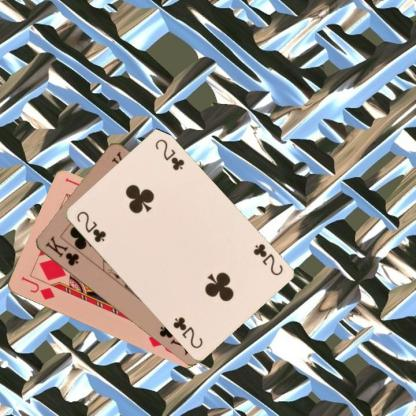2c: (250, 240, 284, 278), (73, 208, 107, 244)
Jd: (18, 274, 56, 301)
Kc: (42, 233, 80, 267)
